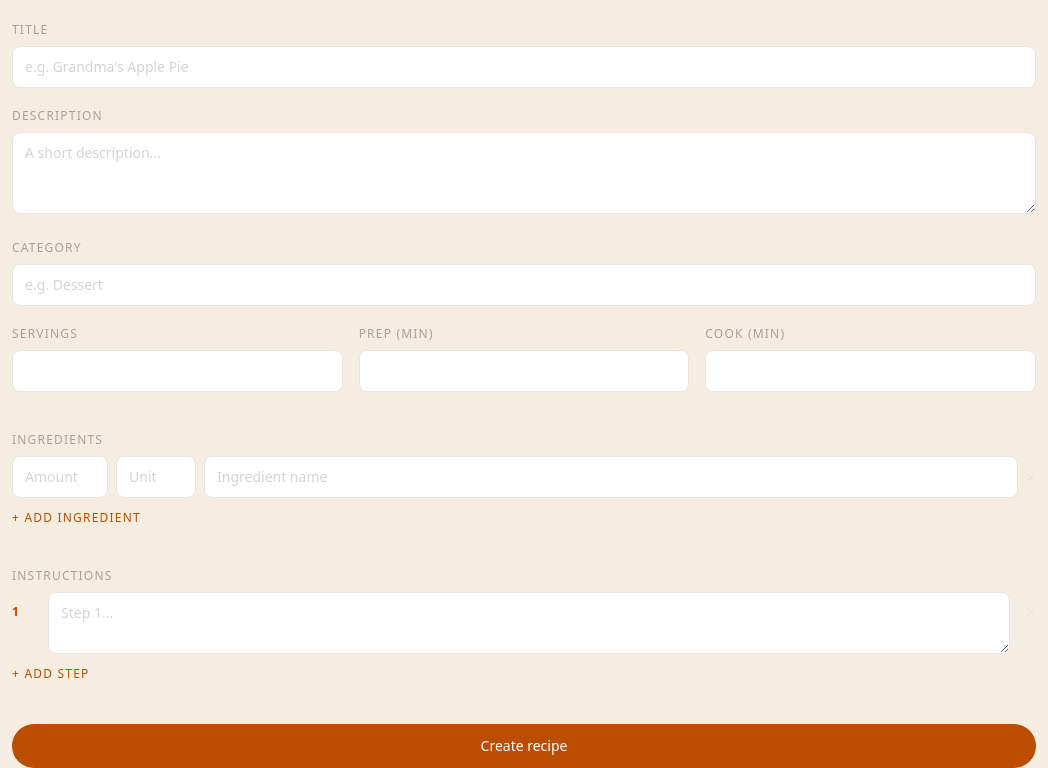
Test: RecipeForm › removes an ingredient row when clicking ×
(page scrolled)
Click the button "+ Add ingredient" at (76, 518), box [12,510,141,526]
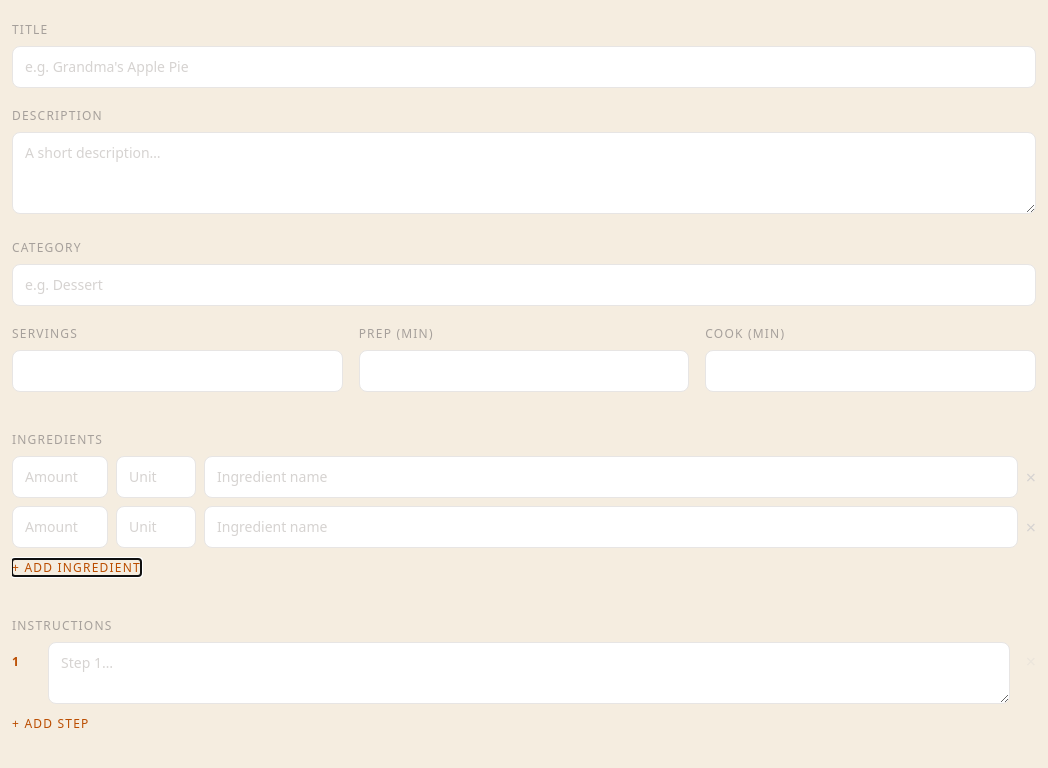
Click the 1st button "×" at (1031, 477), box [1026,468,1036,486]
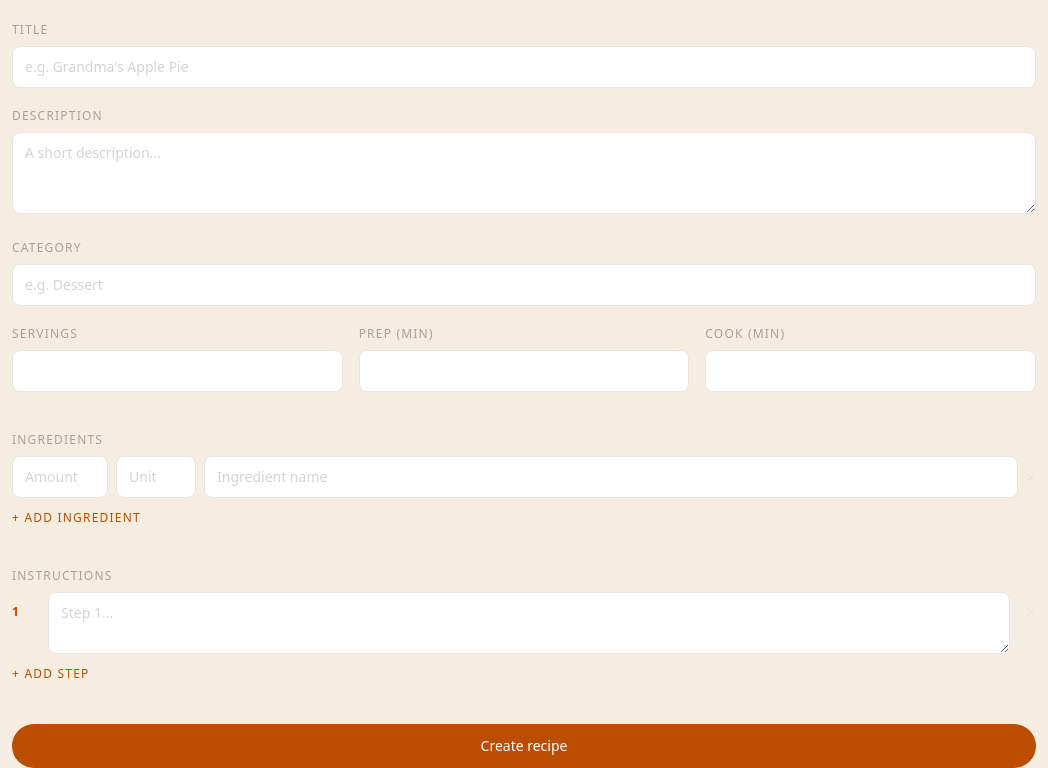
Expected: the number of fields with placeholder "Ingredient name" is 1, [204,456,1018,498]
